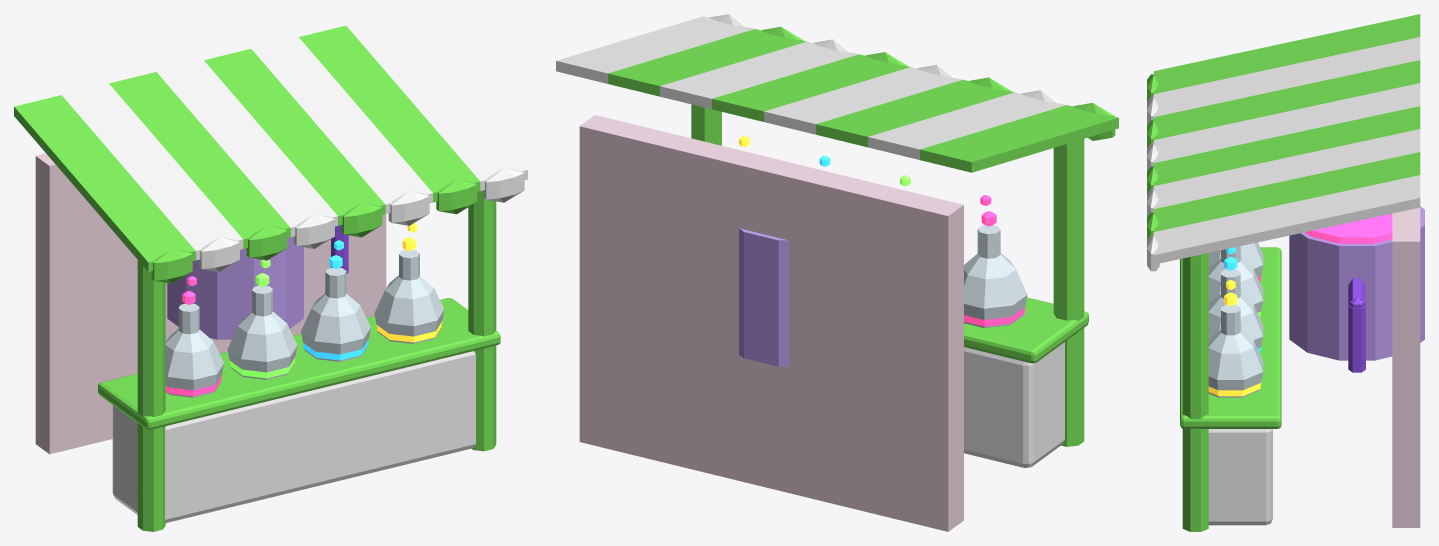
Rendered from goo_lab.fbx.
3 renders of one model, left to right at view 1: azimuth 30°, elevation 25°; view 2: azimuth 150°, elevation 25°; view 3: azimuth 270°, elevation 25°, orthographic. The views are drawn at different scales.
Parts seen in each view (by area): view 1: AwningA, AwningB, Counter, Back, Flasks, Posts, CounterTop, Vat, Goo3, Goo4, Goo2, Goo1; view 2: Back, AwningA, AwningB, Counter, Posts, Vat, Flasks, CounterTop, Goo1; view 3: AwningB, AwningA, Vat, Back, Flasks, Posts, Counter, CounterTop, VatGoo, Pipes, Goo4.
Boxes of the visible parts, x1,y1,x2,y2 form: AwningA: [14, 25, 480, 283]; AwningB: [62, 14, 527, 272]; Counter: [112, 351, 475, 522]; Back: [35, 153, 386, 454]; Flasks: [165, 250, 444, 397]; Posts: [137, 190, 496, 531]; CounterTop: [98, 298, 500, 429]; Vat: [167, 236, 303, 339]; Goo3: [303, 240, 368, 360]; Goo4: [376, 223, 442, 342]; Goo2: [229, 259, 295, 378]; Goo1: [165, 276, 221, 396]; Back: [579, 115, 963, 531]; AwningA: [608, 26, 1118, 172]; AwningB: [556, 14, 1066, 159]; Counter: [964, 342, 1064, 467]; Posts: [691, 104, 1084, 446]; Vat: [739, 228, 788, 366]; Flasks: [964, 225, 1027, 328]; CounterTop: [964, 297, 1088, 363]; Goo1: [964, 195, 1025, 326]; AwningB: [1147, 37, 1420, 271]; AwningA: [1147, 14, 1420, 240]; Vat: [1289, 206, 1424, 360]; Back: [1392, 207, 1420, 527]; Flasks: [1208, 242, 1263, 397]; Posts: [1182, 253, 1208, 531]; Counter: [1208, 429, 1272, 525]; CounterTop: [1180, 247, 1281, 428]; VatGoo: [1305, 213, 1392, 243]; Pipes: [1348, 278, 1365, 372]; Goo4: [1208, 280, 1261, 396].
Bounding box in the file's own units: 12.4 × 10.7 × 7.92.
